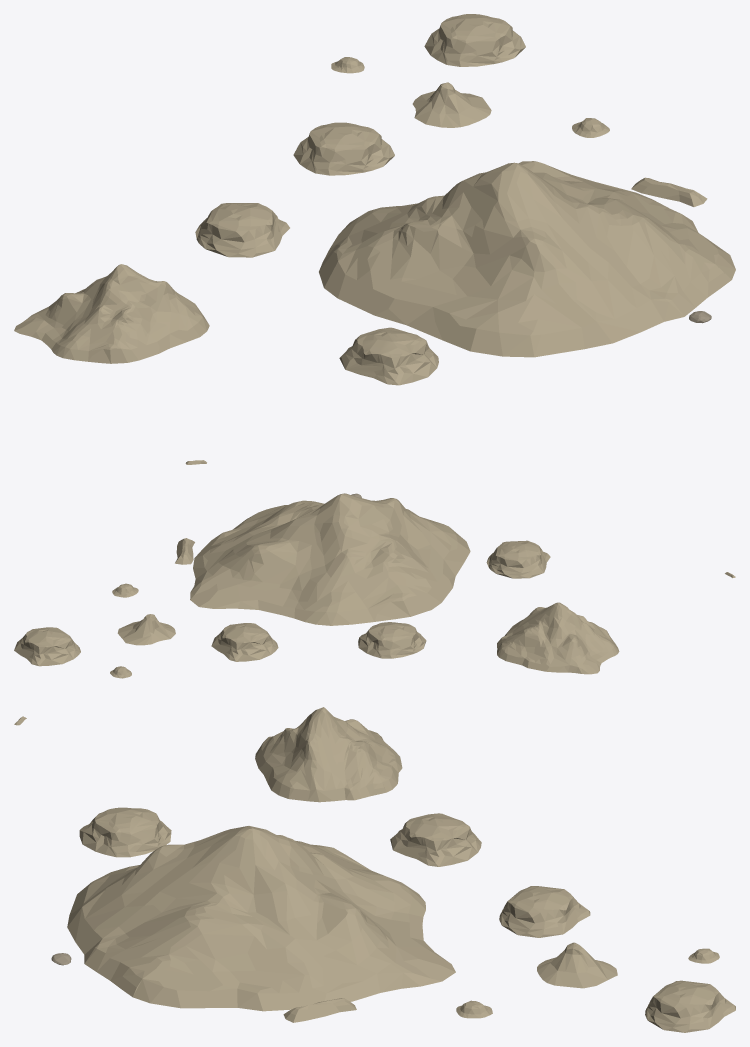
The model's file is 257_Desert_Steppable.fbx.
3 renders of one model, top to bottom at view 1: azimuth 30°, elevation 25°; view 2: azimuth 150°, elevation 25°; view 3: azimuth 270°, elevation 25°, orthographic. The views are drawn at different scales.
Visible parts, largest first — view 1: PolygonNature_04, PolygonNature_01, PolygonNature_04_1; view 2: PolygonNature_04, PolygonNature_01, PolygonNature_04_1; view 3: PolygonNature_04, PolygonNature_01, PolygonNature_04_1.
Boxes of the visible parts, x1,y1,x2,y2 form: PolygonNature_04: [14, 14, 735, 363]; PolygonNature_01: [185, 57, 711, 464]; PolygonNature_04_1: [339, 327, 438, 385]; PolygonNature_04: [14, 493, 619, 674]; PolygonNature_01: [110, 493, 735, 678]; PolygonNature_04_1: [486, 540, 550, 578]; PolygonNature_04: [67, 707, 735, 1032]; PolygonNature_01: [14, 716, 719, 1022]; PolygonNature_04_1: [79, 807, 171, 857].
Bounding box in the file's own units: 1837 × 273 × 1789.
Materials: 2 (2 with a texture image).
